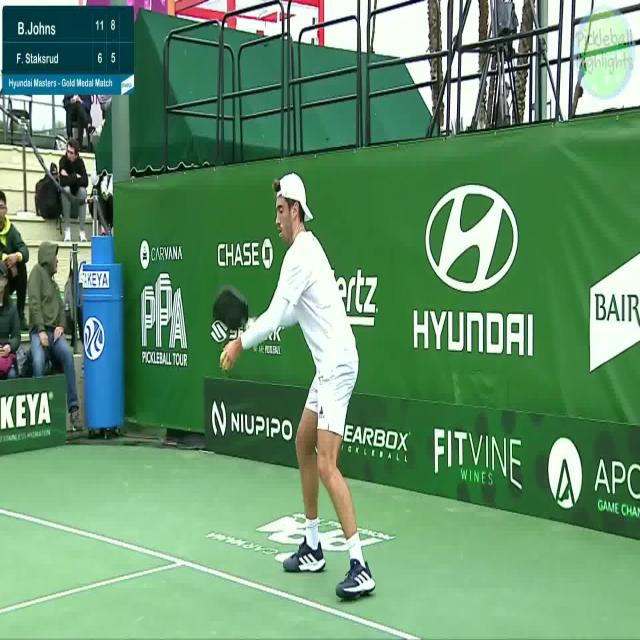ball: (217, 340, 233, 373)
